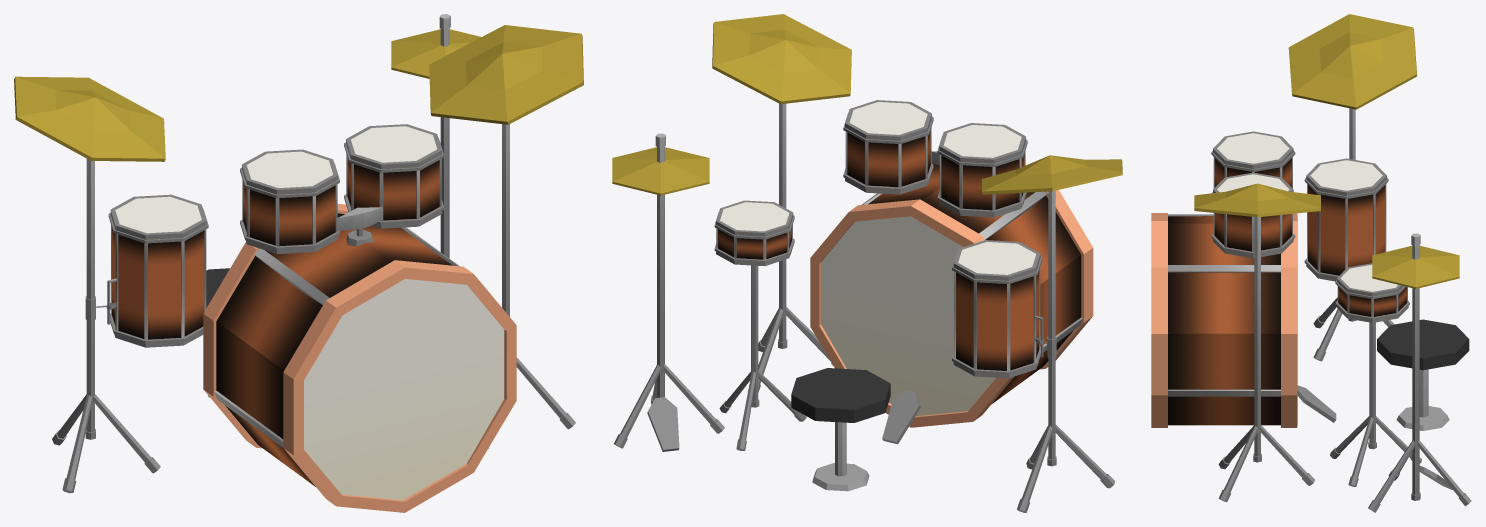
File: drum_set.fbx
3 renders of one model, left to right at view 1: azimuth 30°, elevation 25°; view 2: azimuth 150°, elevation 25°; view 3: azimuth 270°, elevation 25°, orthographic. The views are drawn at different scales.
Parts seen in each view (by area): view 1: drum_set; view 2: drum_set; view 3: drum_set.
Boxes of the visible parts, left/top/right/bottom form: drum_set: left=14, top=14, right=583, bottom=512; drum_set: left=612, top=14, right=1122, bottom=512; drum_set: left=1151, top=14, right=1471, bottom=512.
Size of the model in its own units: 2.15 by 1.46 by 1.4.
1 material, 1 textured.
